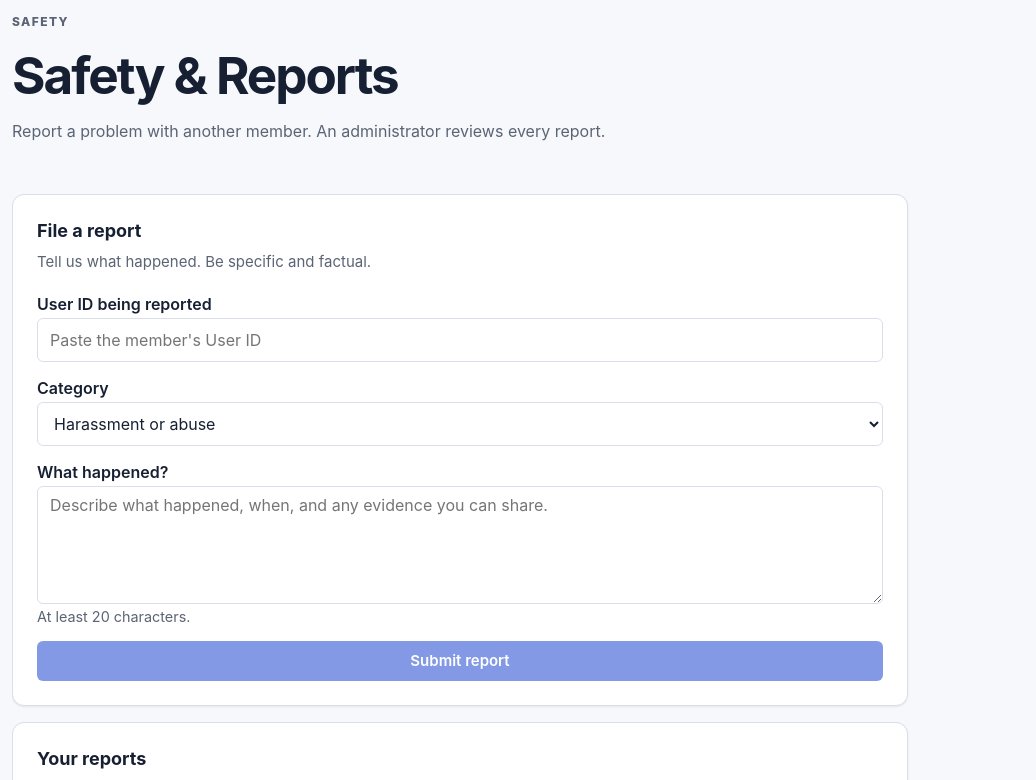
ReportsPage › keeps submit disabled until the form is valid
Expected: the button "Submit report" is disabled, top-left (37, 641), bottom-right (883, 681)
Type "00000000-0000-4000-8000-000000000002" into the field with placeholder "Paste the member's User ID" at [460, 340], box top-left (37, 318), bottom-right (883, 362)
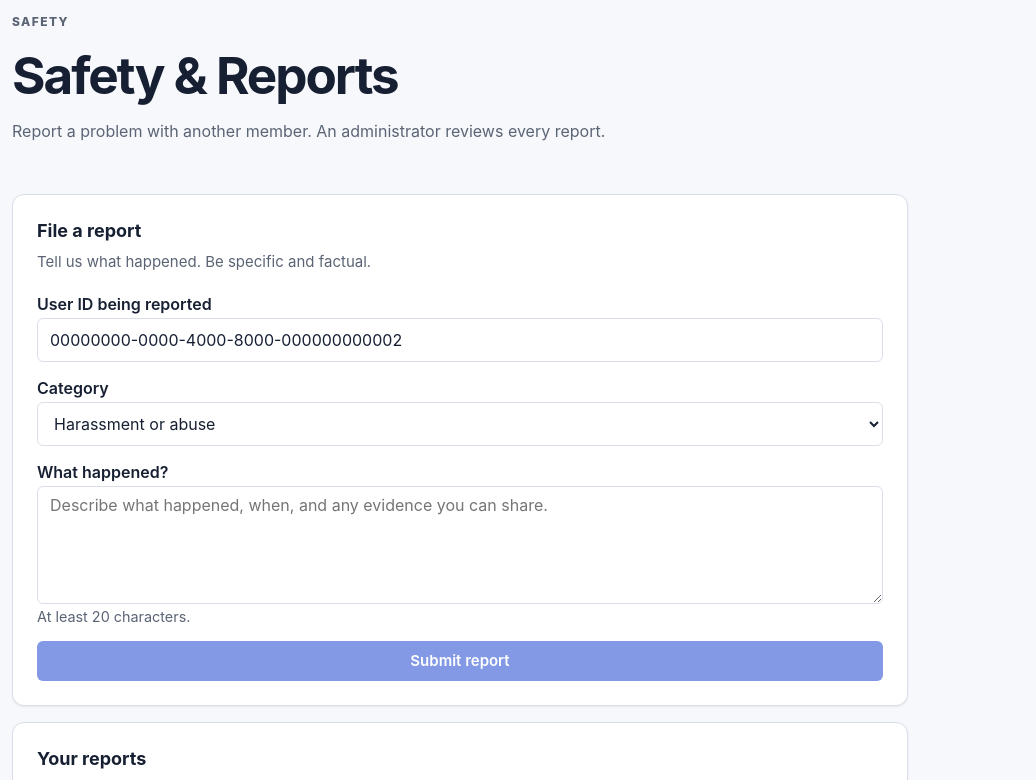
Expected: the button "Submit report" is disabled, top-left (37, 641), bottom-right (883, 681)
Replace the text in the text box with placeholder "Describe what happened" with "short" at [460, 545], box top-left (37, 486), bottom-right (883, 604)
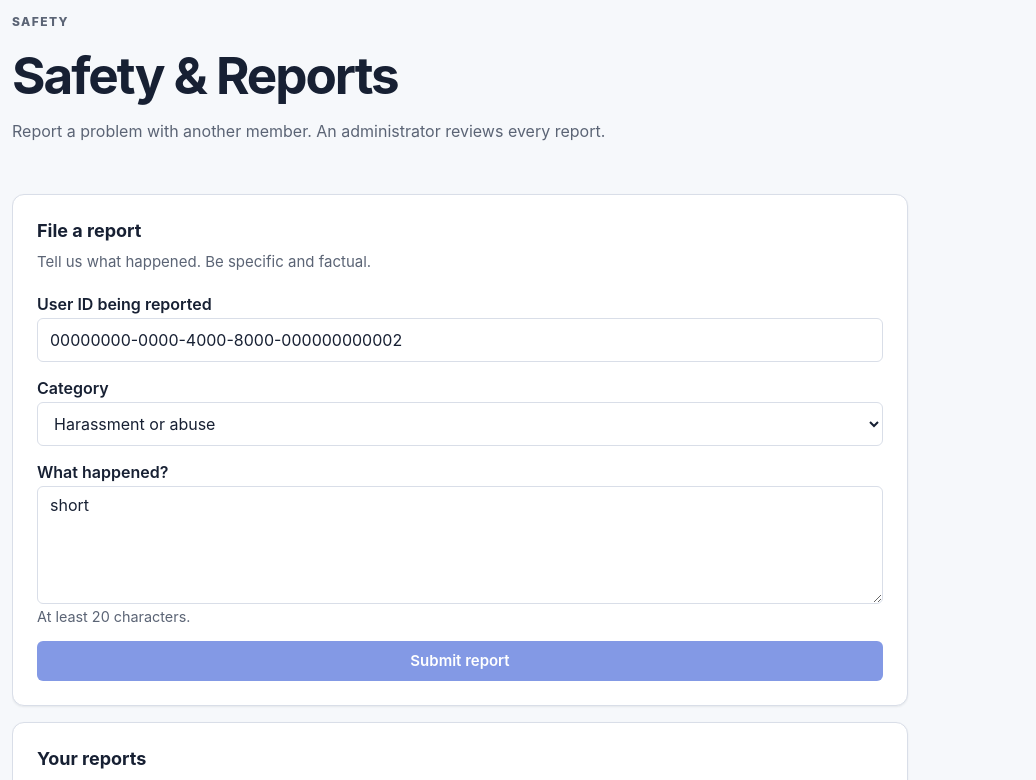
Expected: the button "Submit report" is disabled, top-left (37, 641), bottom-right (883, 681)
Replace the text in the text box with placeholder "Describe what happened" with "This member repeatedly sent abusive messages to me." at [460, 545], box top-left (37, 486), bottom-right (883, 604)
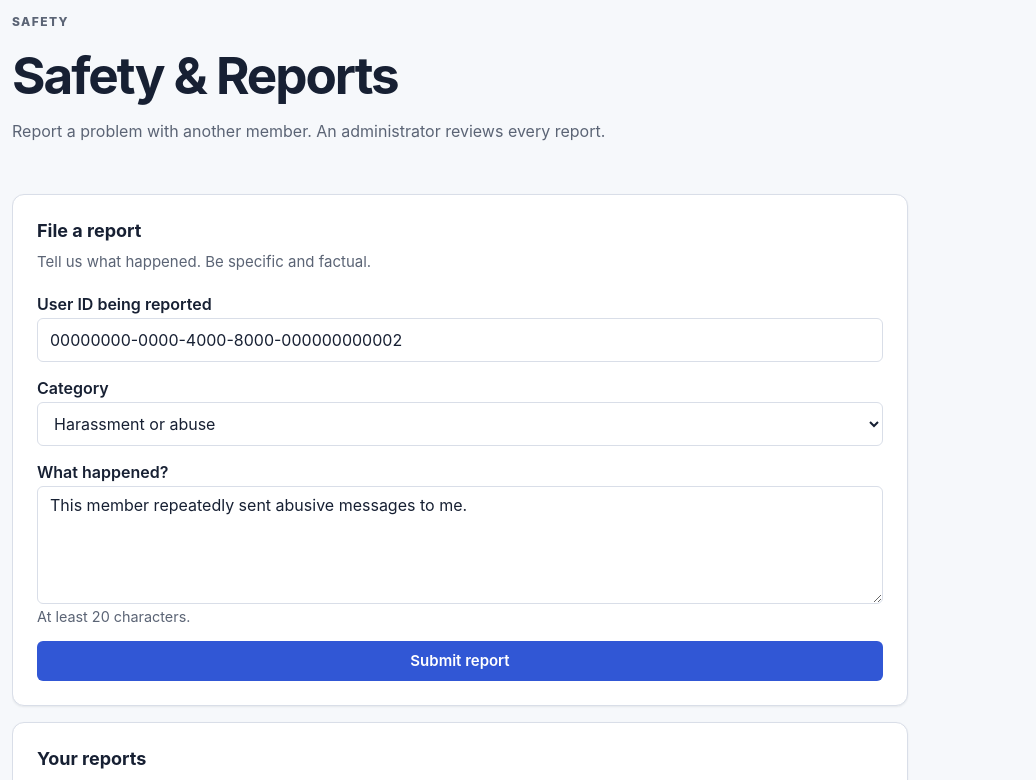
Expected: the button "Submit report" is enabled, top-left (37, 641), bottom-right (883, 681)
